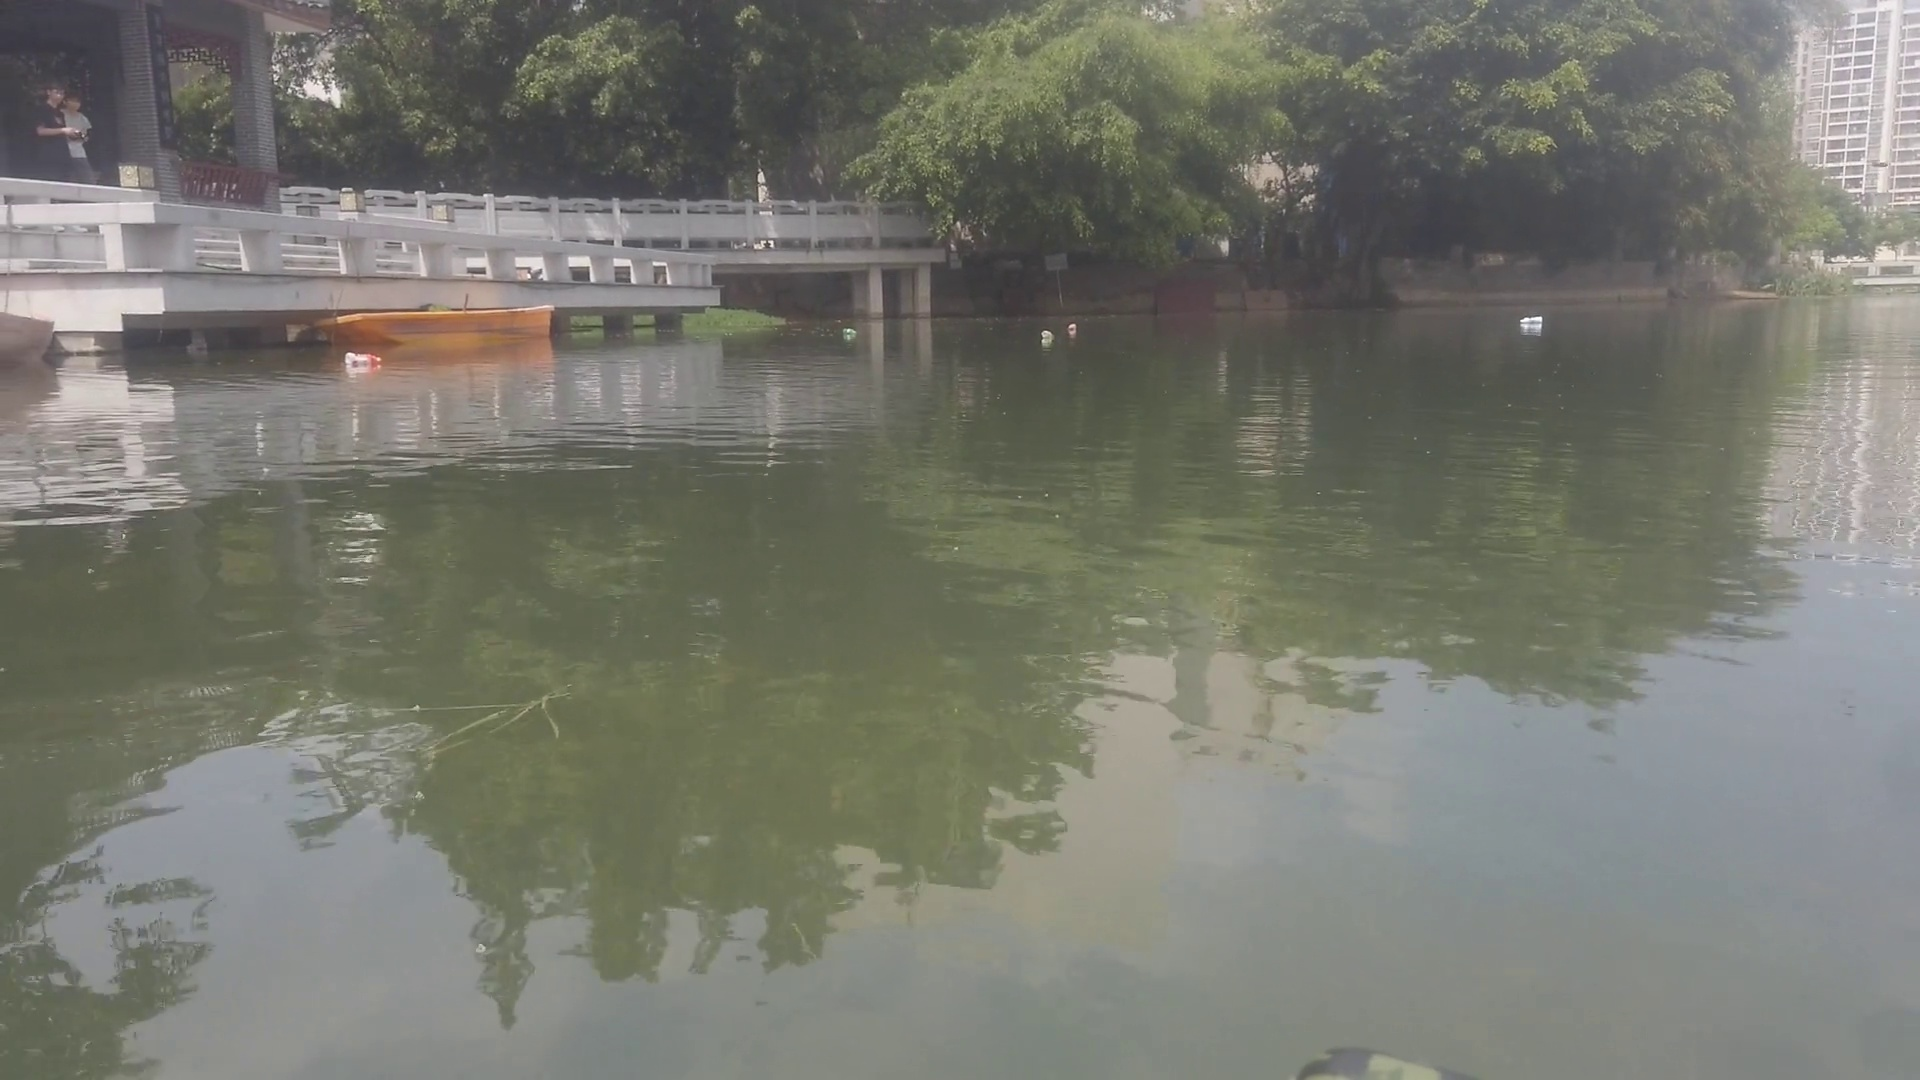bottle: (340, 345, 382, 367), (1515, 310, 1545, 328), (837, 324, 862, 338), (1038, 328, 1055, 339), (1065, 319, 1077, 332)
